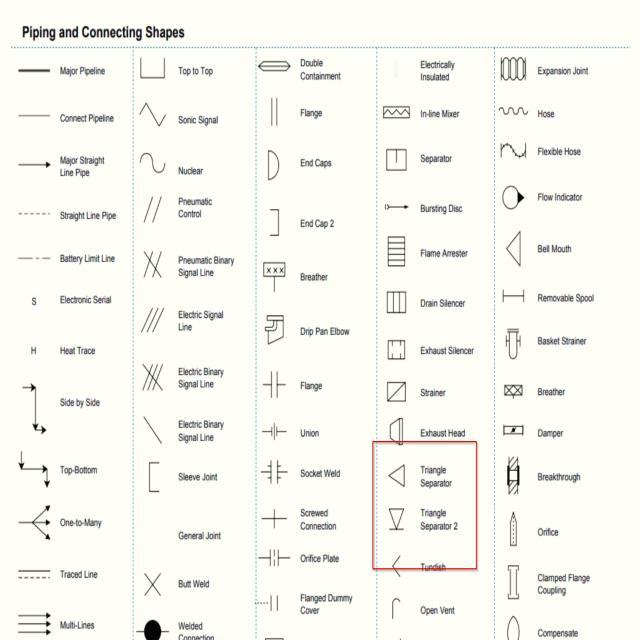pneumatic: (140, 188, 171, 229)
